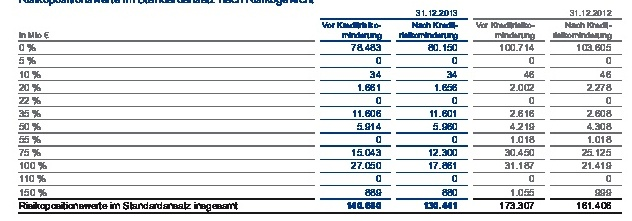table: (0, 0, 632, 221)
